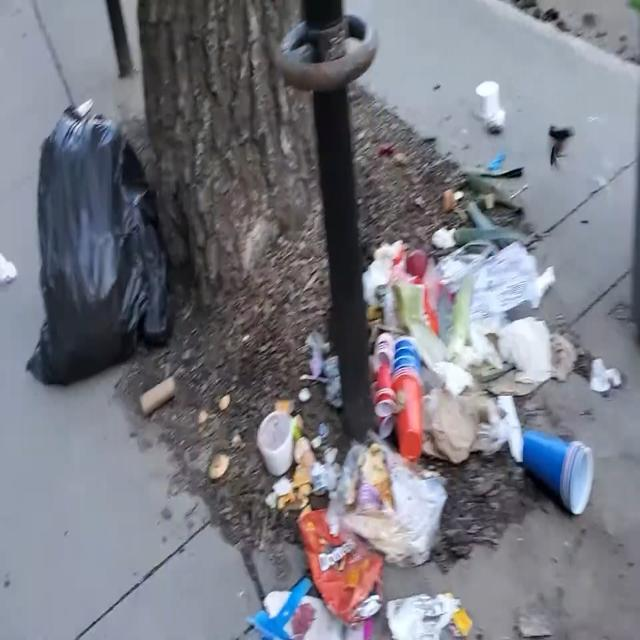high trash: (250, 156, 621, 640), (28, 102, 170, 384)
less trash: (475, 80, 505, 133)
